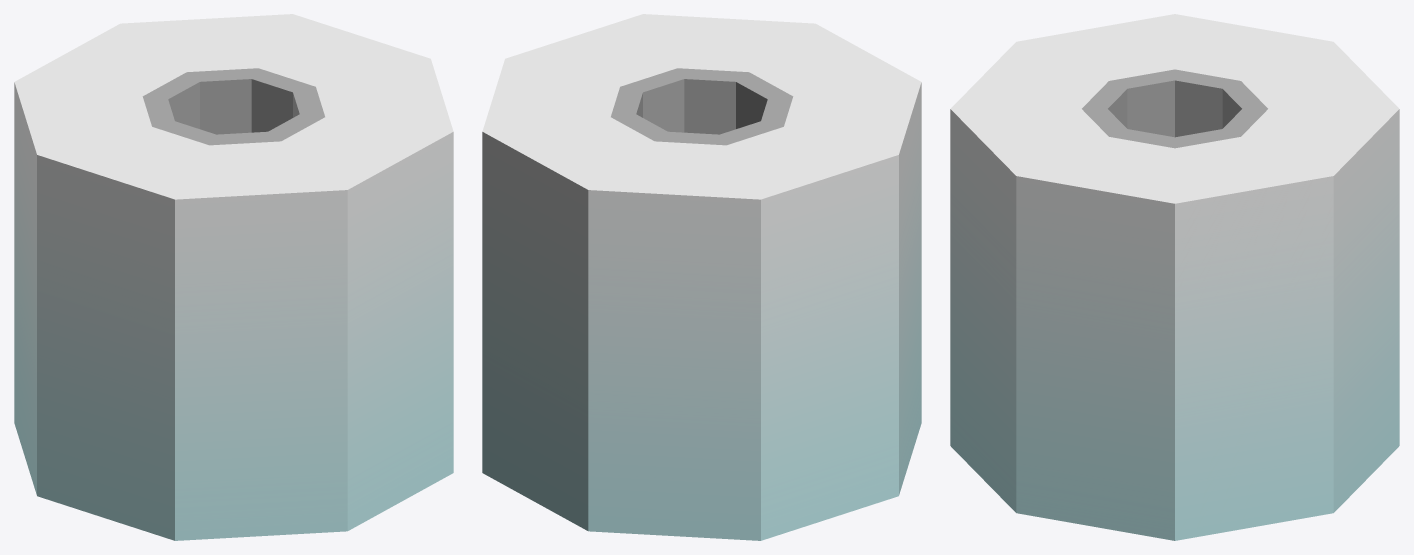
Rendered from roll_toilet.fbx.
The picture shows the model from 3 angles, left to right: view 1: azimuth 30°, elevation 25°; view 2: azimuth 150°, elevation 25°; view 3: azimuth 270°, elevation 25°; orthographic projection.
Parts seen in each view (by area): view 1: roll_toilet; view 2: roll_toilet; view 3: roll_toilet.
Boxes of the visible parts, x1,y1,x2,y2 form: roll_toilet: (14,14,453,540); roll_toilet: (482,14,921,540); roll_toilet: (950,14,1399,540).
Size of the model in its own units: 186 by 154 by 186.
